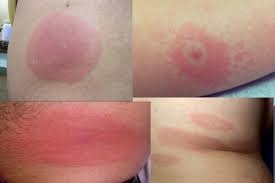Ringworm: (28, 104, 135, 165), (23, 8, 101, 83), (159, 22, 233, 87), (189, 108, 232, 132)
